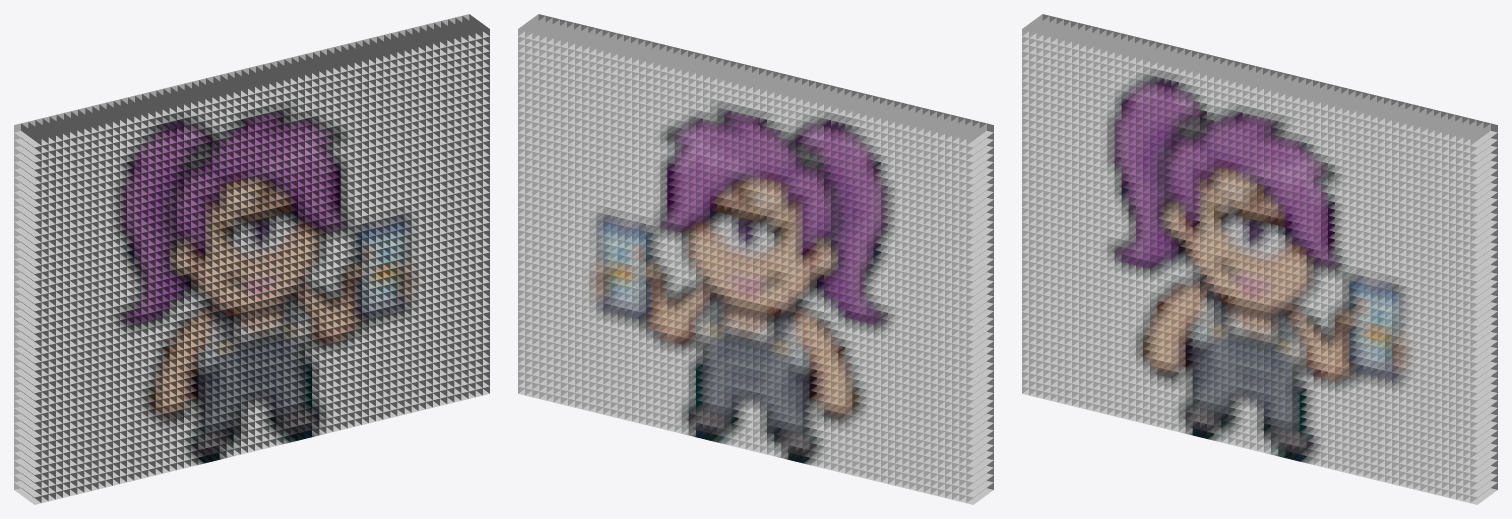
Rendered from social.glb.
3 renders of one model, left to right at view 1: azimuth 30°, elevation 25°; view 2: azimuth 150°, elevation 25°; view 3: azimuth 330°, elevation 25°, orthographic.
Visible parts, largest first — view 1: world; view 2: world; view 3: world.
Boxes of the visible parts, <box> form: world: <box>14,14,489,504</box>; world: <box>518,14,993,504</box>; world: <box>1022,14,1497,504</box>.
Size of the model in its own units: 0.64 by 0.49 by 0.05.
